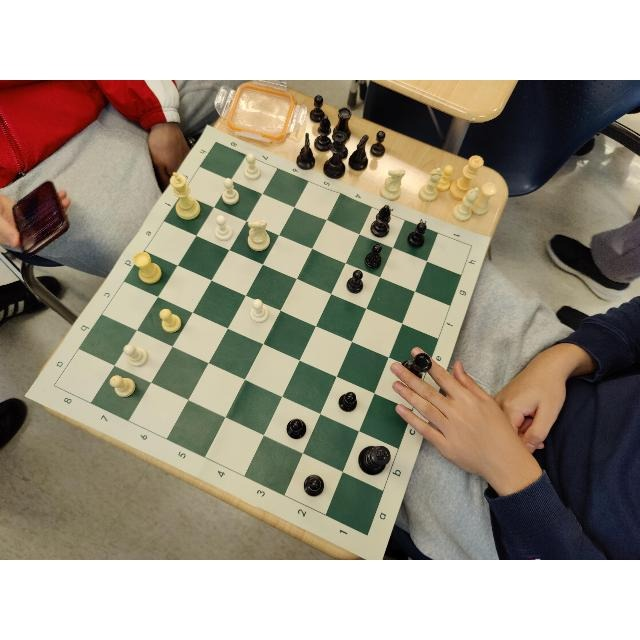black-bishop: (370, 204, 391, 237)
black-king: (357, 445, 390, 477)
black-pawn: (302, 474, 324, 497), (407, 222, 427, 247), (365, 243, 383, 268), (346, 269, 364, 294), (286, 418, 306, 440), (339, 392, 357, 412)
black-rook: (402, 352, 432, 379)
white-king: (170, 172, 201, 220)
white-knight: (245, 220, 270, 252)
white-pawn: (110, 375, 136, 398), (124, 344, 148, 367), (159, 308, 181, 333), (221, 177, 240, 205), (215, 216, 233, 242), (243, 154, 261, 180), (251, 298, 268, 323)
white-rook: (134, 252, 162, 285)
